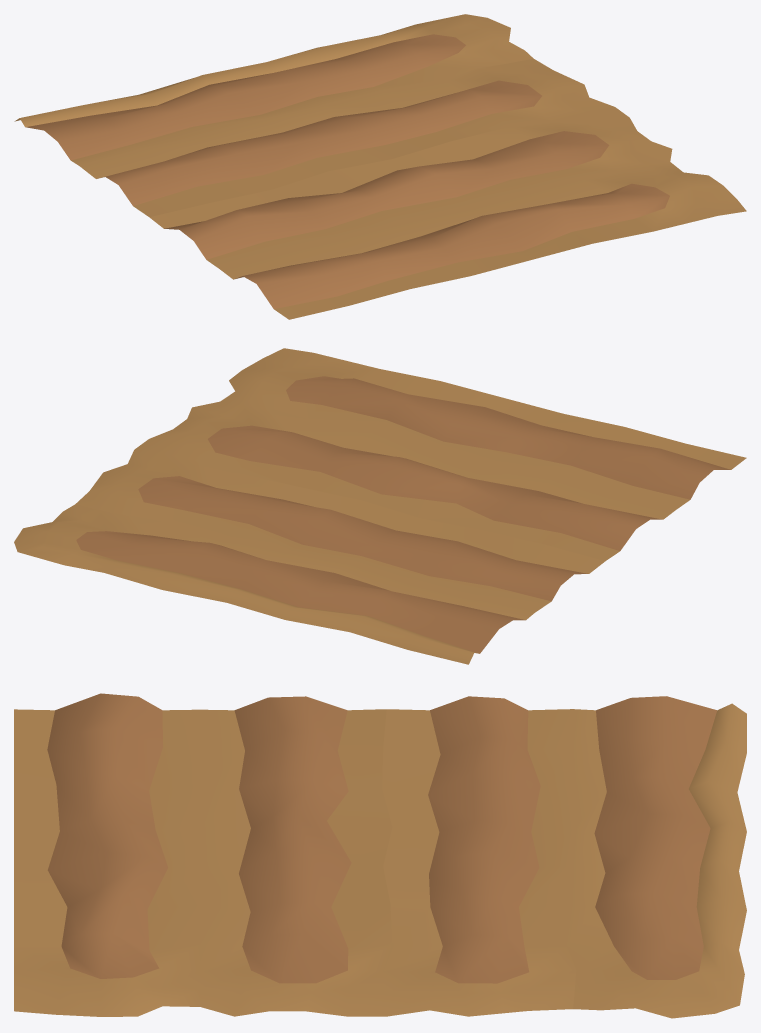
The model's file is Building_model_0_Fieldfrontleftedge001.fbx.
The picture shows the model from 3 angles, top to bottom: view 1: azimuth 30°, elevation 25°; view 2: azimuth 150°, elevation 25°; view 3: azimuth 270°, elevation 25°; orthographic projection. The views are drawn at different scales.
Parts seen in each view (by area): view 1: Building_model_0_Fieldfrontleftedge001; view 2: Building_model_0_Fieldfrontleftedge001; view 3: Building_model_0_Fieldfrontleftedge001.
Boxes of the visible parts, left/top/right/bottom form: Building_model_0_Fieldfrontleftedge001: left=14, top=14, right=746, bottom=319; Building_model_0_Fieldfrontleftedge001: left=14, top=348, right=746, bottom=664; Building_model_0_Fieldfrontleftedge001: left=14, top=693, right=746, bottom=1018.
Bounding box in the file's own units: 2.9 × 0.1042 × 2.95.
